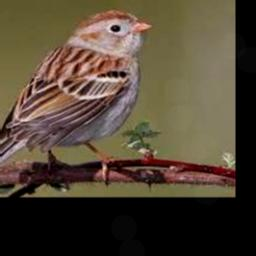Sparrow: (0, 9, 152, 192)
